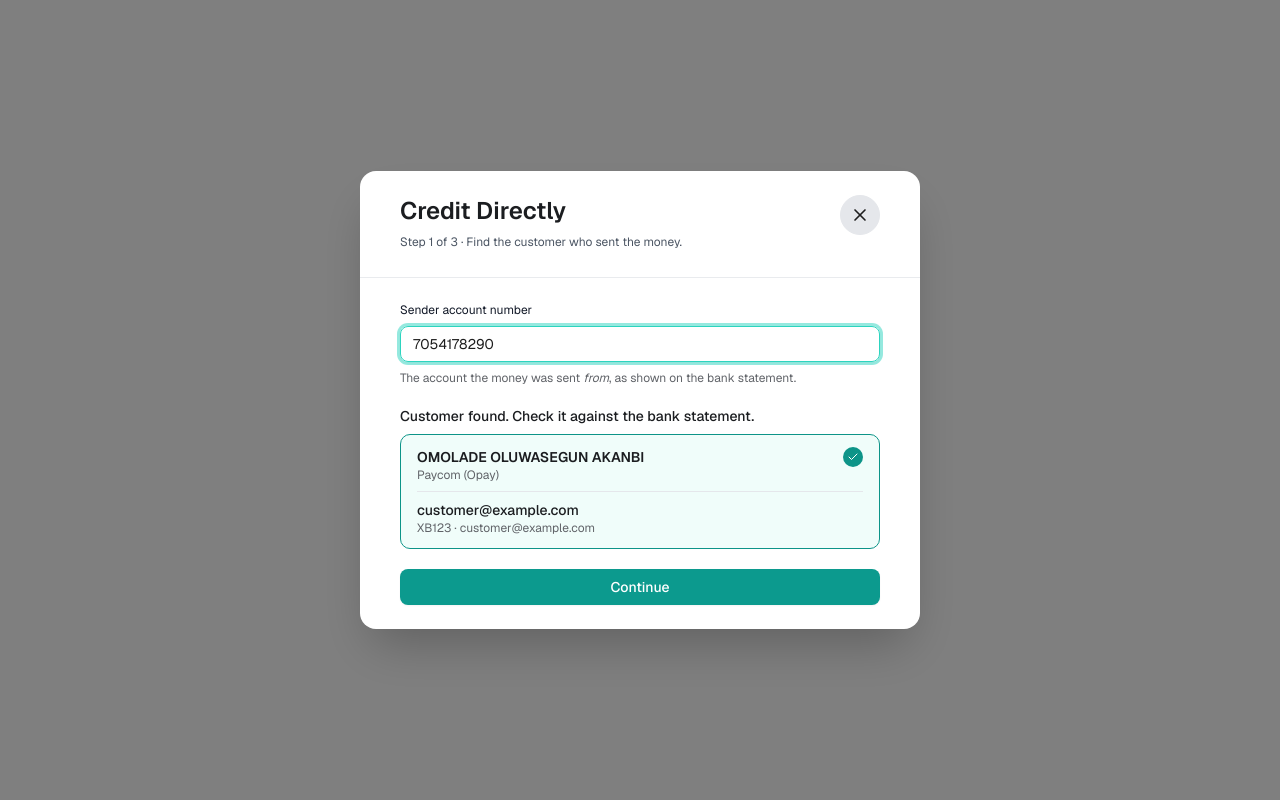
CreditDirectlyModal: finding the customer › falls back to the email when the backend sends no customer name
Expected: the text "customer@example.com" is shown, [417,501,579,519]
Click the button "Continue" at x=640, y=587, box [400,569,880,605]
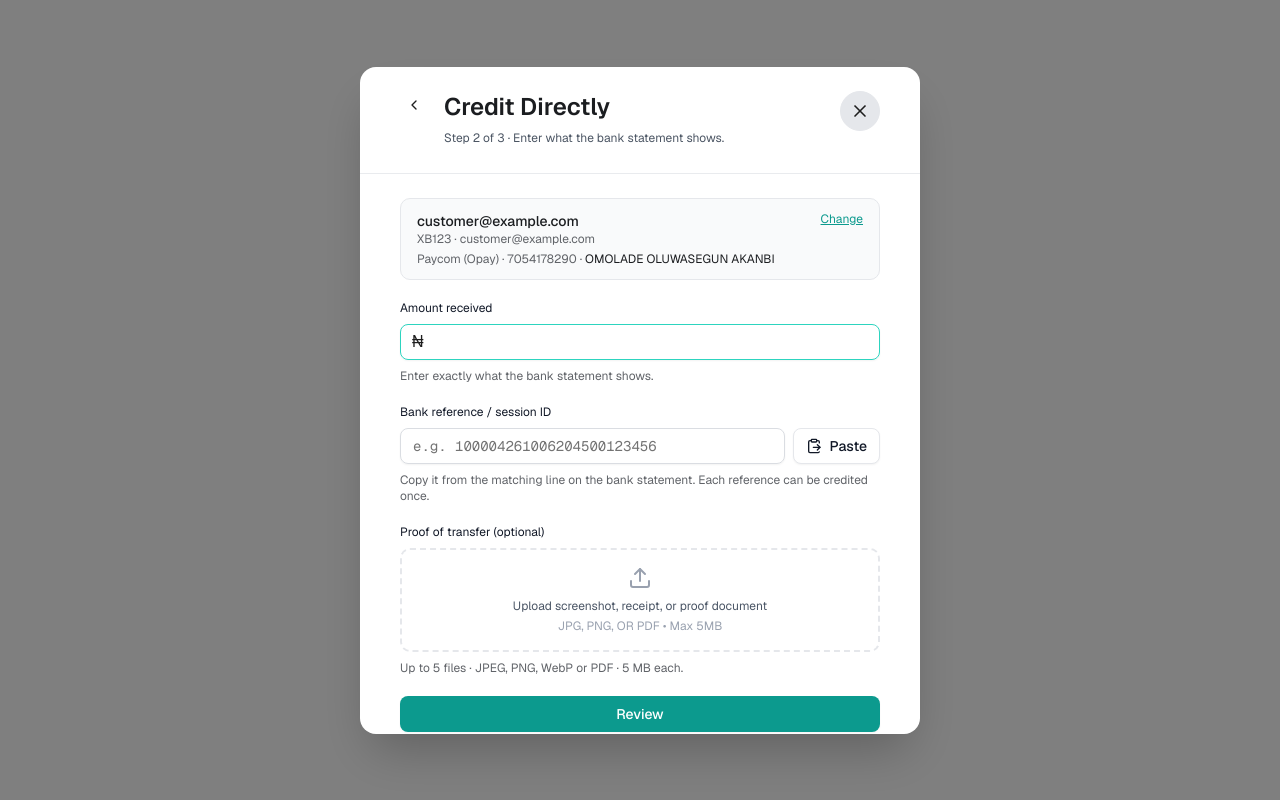
Result: the field labelled "Amount received" is shown
Type "2000" into the field labelled "Amount received" at x=640, y=342, box [400,324,880,360]
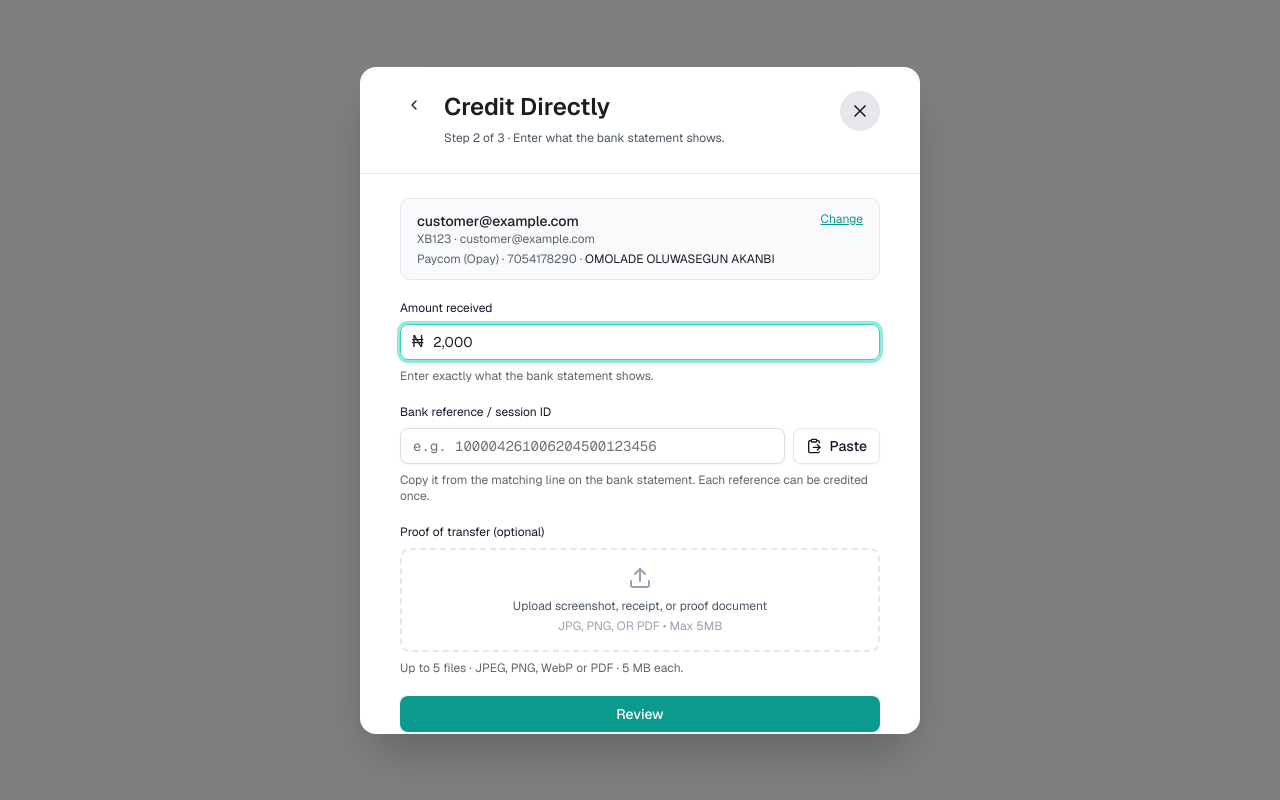
Type "100004261006204500123456" into the field labelled "Bank reference / session ID" at x=592, y=446, box [400,428,785,464]
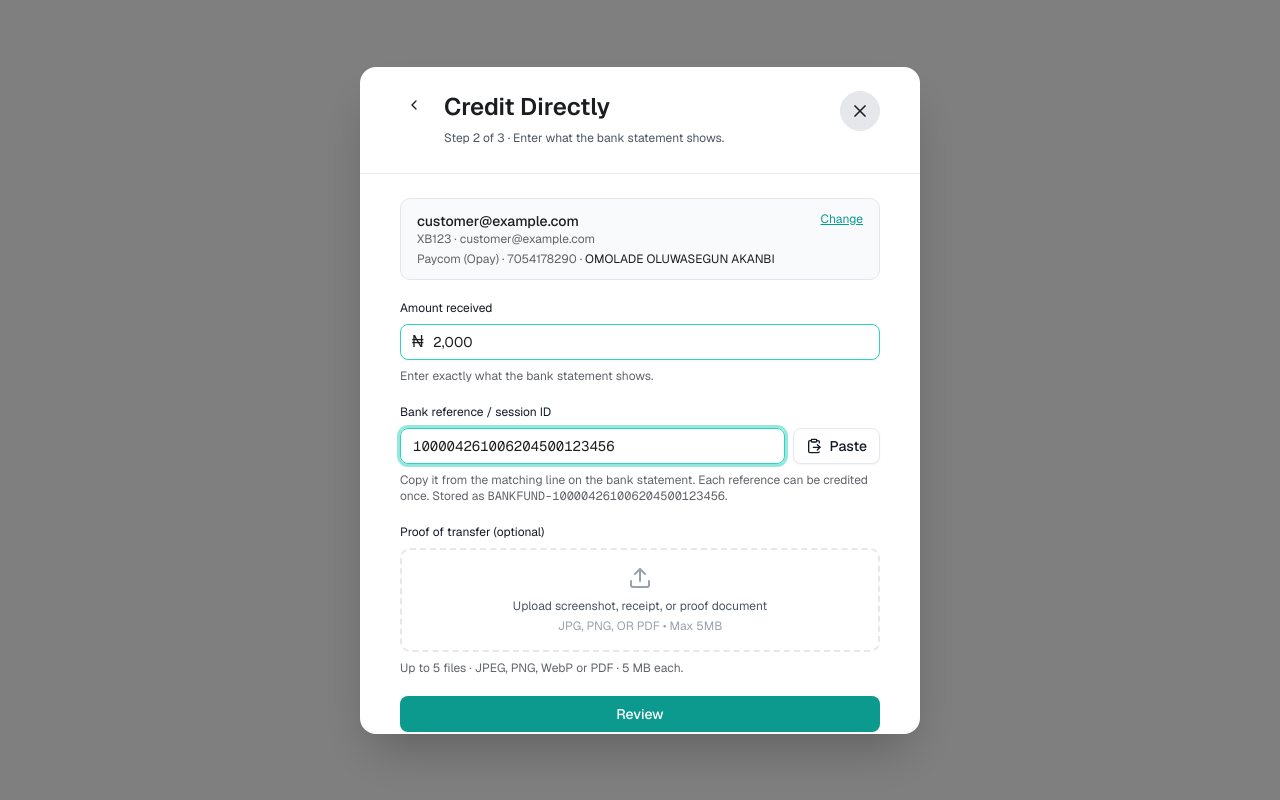
Click the button "Review" at x=640, y=714, box [400,696,880,732]
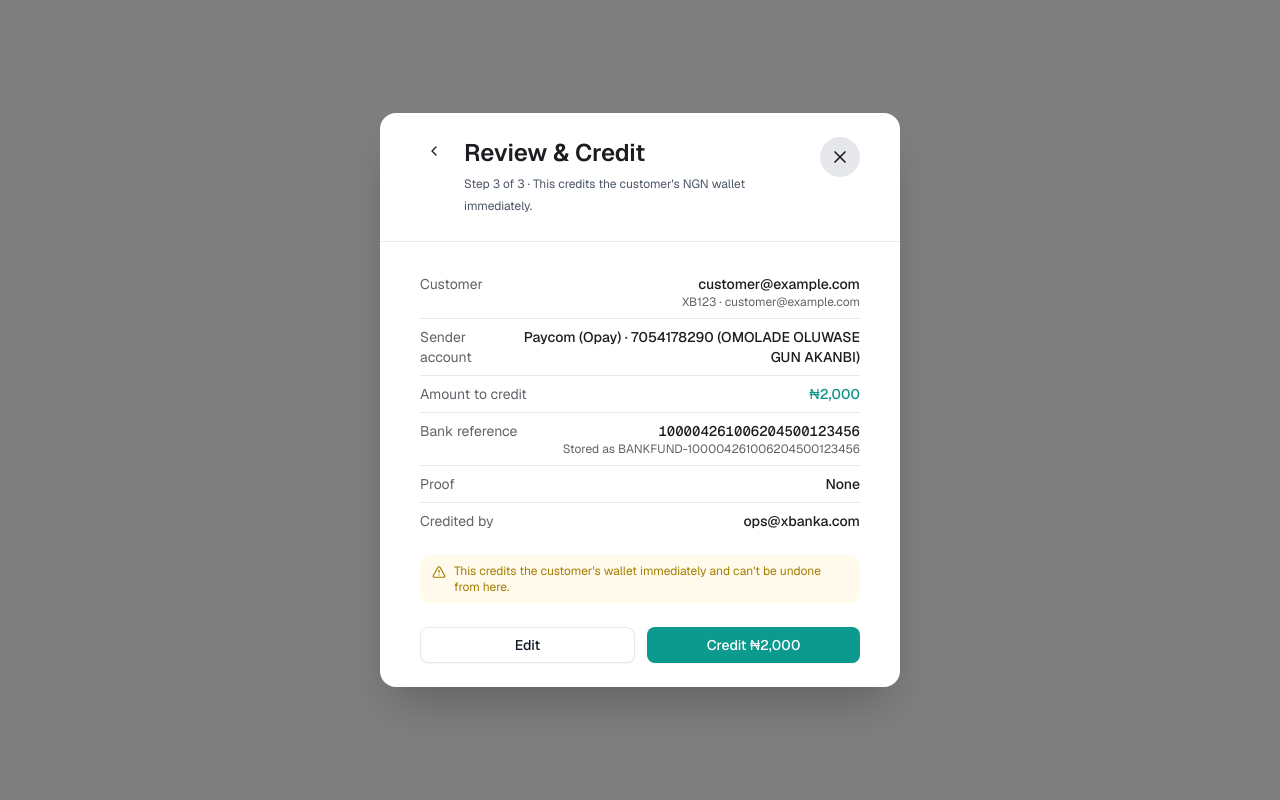
Expected: the text "customer@example.com XB123 · customer@example.com" is shown, [682,274,860,310]
Result: the heading "Review & Credit" is shown at [464,137,645,168]
